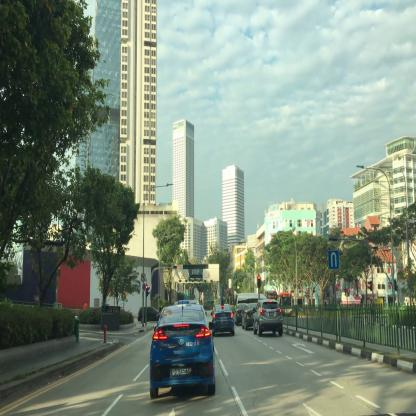red_traffic_light: (257, 276, 260, 288), (146, 284, 148, 296), (173, 265, 178, 268)
